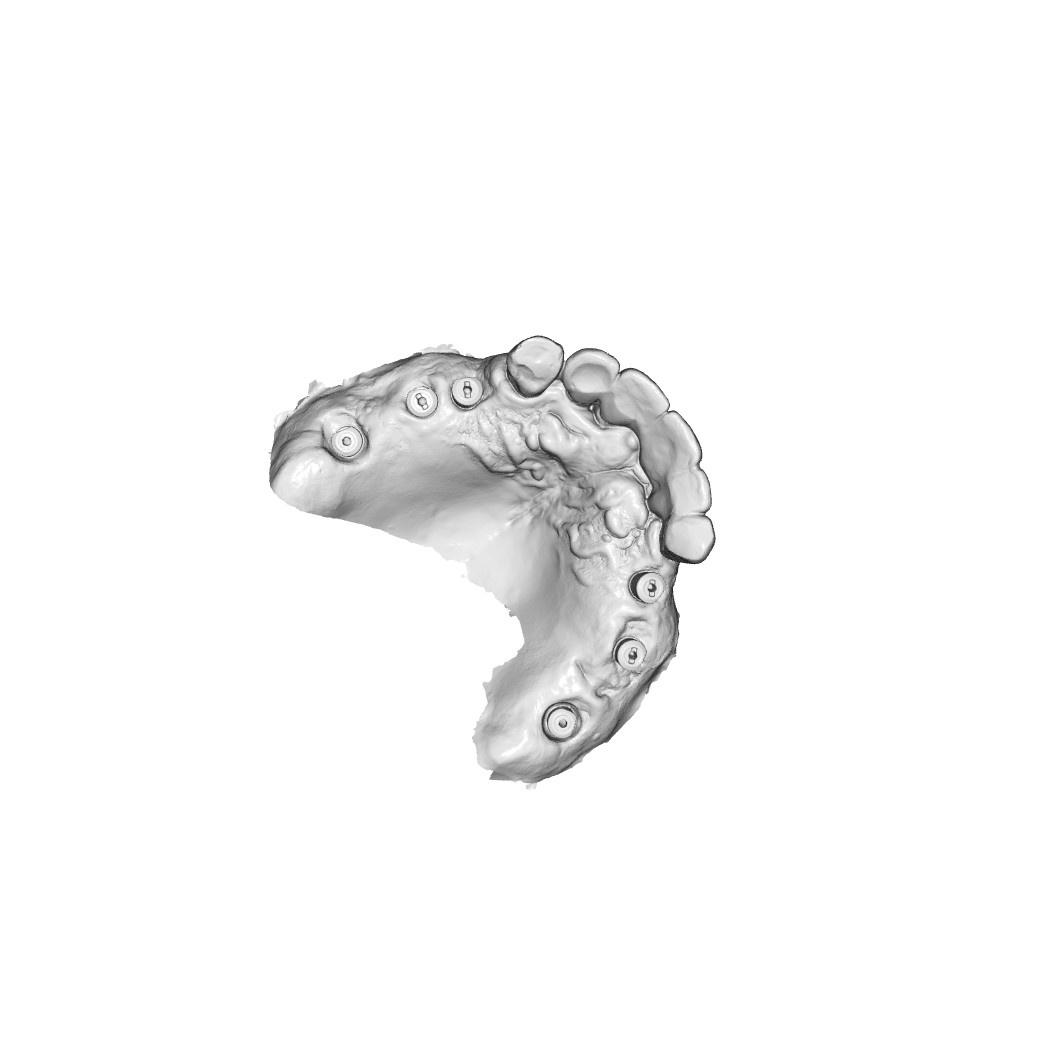canine: (501, 333, 566, 399), (656, 514, 717, 567)
implant: (540, 698, 585, 744), (322, 422, 365, 462)
implant_minus: (449, 369, 486, 412), (612, 632, 650, 673), (631, 570, 668, 605), (405, 384, 439, 420)
incisor: (600, 366, 672, 433), (557, 344, 622, 405), (642, 408, 703, 469), (652, 463, 715, 516)
